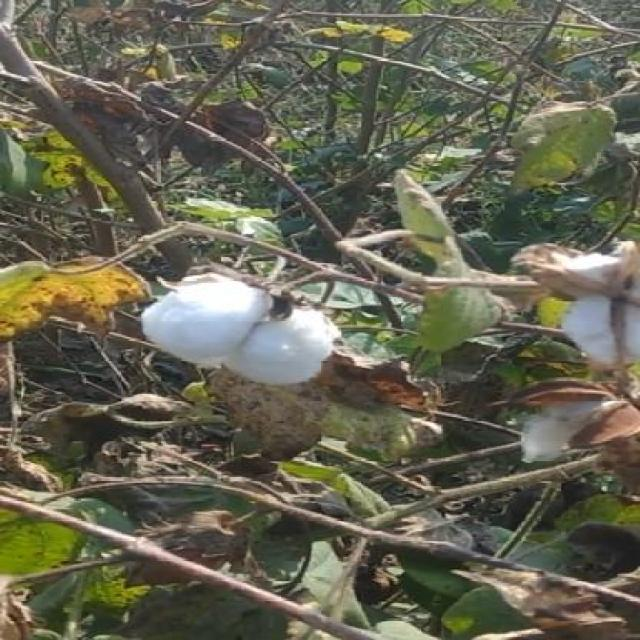cotton_ready: (144, 252, 396, 408)
